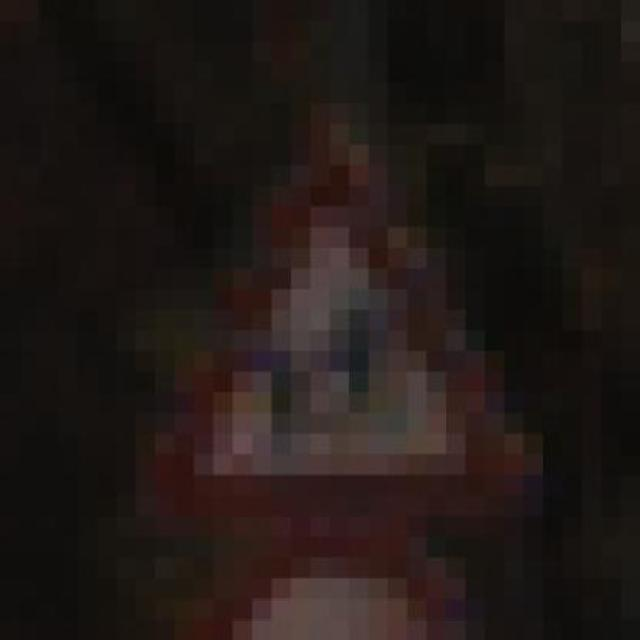Beware of children: (116, 103, 544, 537)
